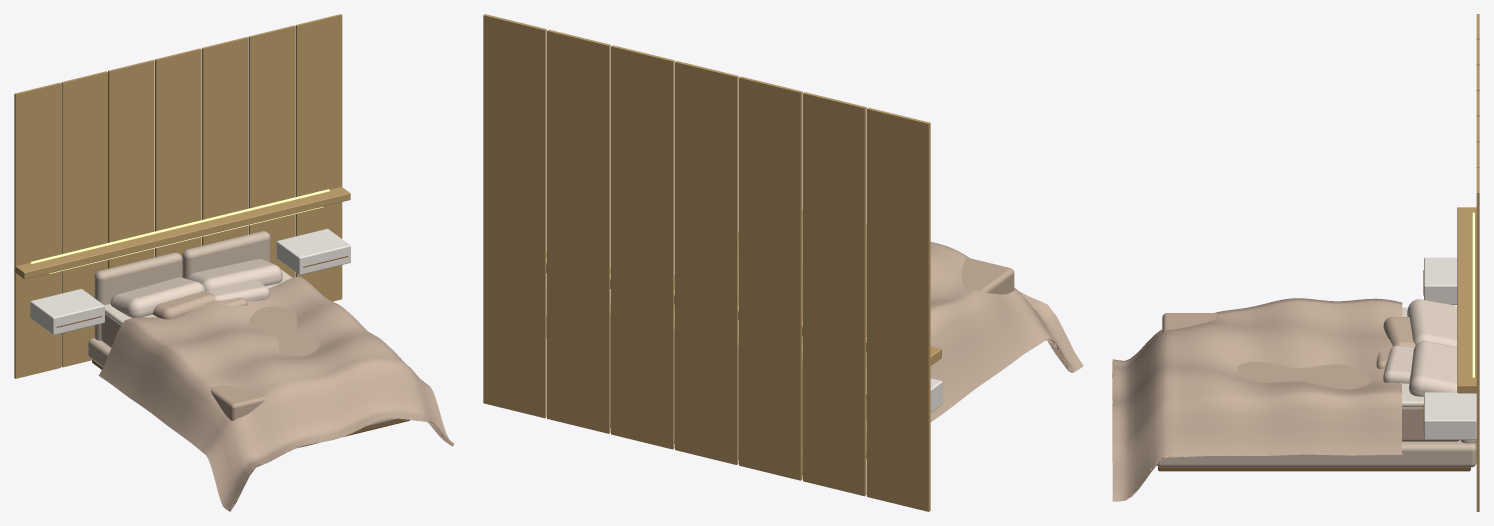
File: bedroom-set-queen.glb
3 renders of one model, left to right at view 1: azimuth 30°, elevation 25°; view 2: azimuth 150°, elevation 25°; view 3: azimuth 270°, elevation 25°, orthographic. The views are drawn at different scales.
Parts seen in each view (by area): view 1: bed-duvet, wall-panel-0, wall-panel-6, wall-panel-1, wall-panel-5, wall-panel-3, wall-panel-2, wall-panel-4, wall-band, bed-mattress, bed-headboard-left, nightstand-left (+8 smaller); view 2: wall-panel-0, wall-panel-2, wall-panel-6, wall-panel-4, wall-panel-5, wall-panel-3, wall-panel-1, bed-duvet, bed-mattress; view 3: bed-duvet, bed-platform, bed-mattress, wall-band, nightstand-right, bed-pillow-back-right, bed-pillow-back-left, nightstand-left, bed-plinth, wall-panel-6, bed-pillow-mid-right, bed-pillow-mid-left (+2 smaller).
Part boxes in pixels (x1,y1,x2,y2): bed-duvet: (98,276,454,511); wall-panel-0: (14,82,60,378); wall-panel-6: (295,14,342,301); wall-panel-1: (61,71,107,367); wall-panel-5: (248,25,295,277); wall-panel-3: (155,48,201,257); wall-panel-2: (108,59,154,268); wall-panel-4: (202,37,248,245); wall-band: (15,187,350,279); bed-mattress: (101,306,319,420); bed-headboard-left: (94,252,182,340); nightstand-left: (30,289,104,335); wall-panel-0: (867,107,930,511); wall-panel-2: (739,76,802,480); wall-panel-6: (483,14,546,418); wall-panel-4: (611,45,674,449); wall-panel-5: (547,29,610,433); wall-panel-3: (675,61,738,464); wall-panel-1: (803,92,866,496); bed-duvet: (674,210,1083,421); bed-mattress: (738,257,1014,419); bed-duvet: (1112,298,1402,501); bed-platform: (1157,440,1476,467); bed-mattress: (1162,313,1459,441); wall-band: (1457,207,1476,393); nightstand-right: (1424,392,1476,439); bed-pillow-back-right: (1409,341,1457,396); bed-pillow-back-left: (1407,299,1457,347); nightstand-left: (1424,257,1457,304); bed-plinth: (1158,467,1470,471); wall-panel-6: (1476,168,1479,511); bed-pillow-mid-right: (1383,345,1414,383); bed-pillow-mid-left: (1383,316,1415,347).
Bounding box in the file's own units: 2.88 × 2.63 × 2.5.
